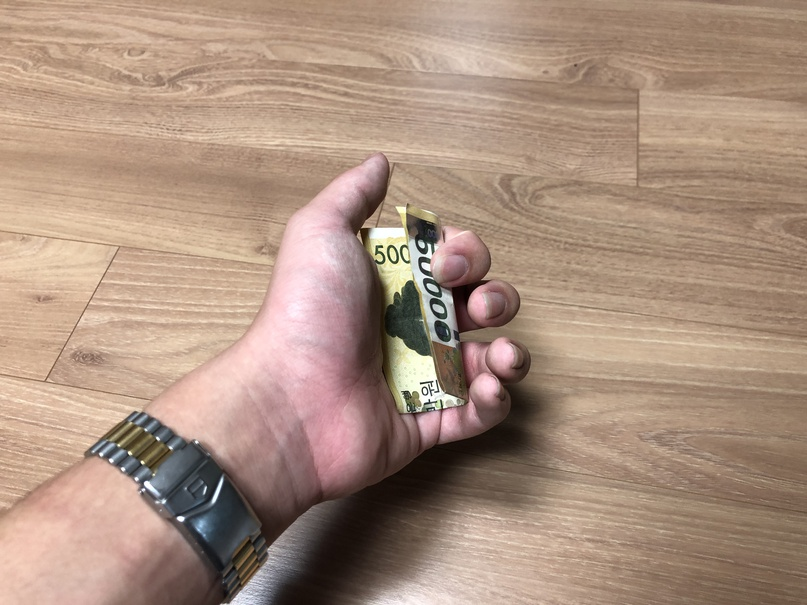50000won: (359, 204, 468, 415)
